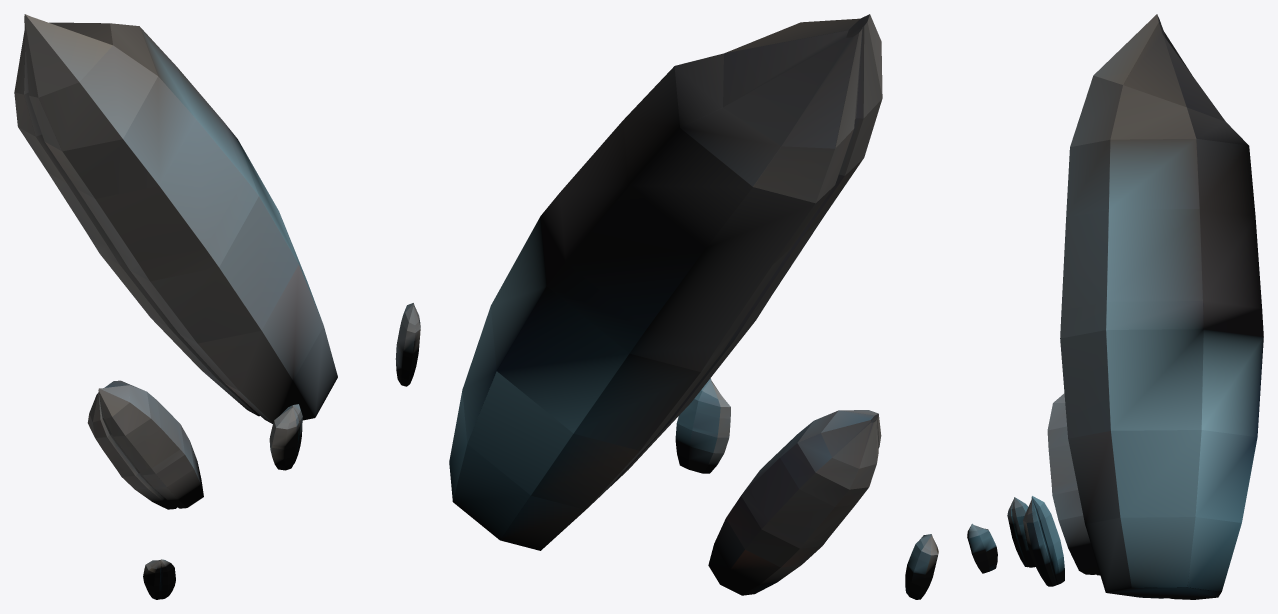
Rendered from res_crys_cluster_mid_a_lod0.glb.
3 views of the same model, side by side, from view 1: azimuth 30°, elevation 25°; view 2: azimuth 150°, elevation 25°; view 3: azimuth 270°, elevation 25° (orthographic). The views are drawn at different scales.
Parts seen in each view (by area): view 1: STATIC_middle__ENV02 · violet resonant mineral.001, STATIC_middle__ENV02 · violet deep cleavage.001, STATIC_middle__ENV02 · cyan resonant mineral.001, STATIC_middle__ENV02 · cyan deep cleavage.001; view 2: STATIC_middle__ENV02 · violet resonant mineral.001, STATIC_middle__ENV02 · violet deep cleavage.001, STATIC_middle__ENV02 · cyan resonant mineral.001, STATIC_middle__ENV02 · cyan deep cleavage.001; view 3: STATIC_middle__ENV02 · violet resonant mineral.001, STATIC_middle__ENV02 · violet deep cleavage.001, STATIC_middle__ENV02 · cyan resonant mineral.001, STATIC_middle__ENV02 · cyan deep cleavage.001.
Boxes of the visible parts, box(x1,y1,x2,y2) form: STATIC_middle__ENV02 · violet resonant mineral.001: box(14, 14, 337, 599); STATIC_middle__ENV02 · violet deep cleavage.001: box(24, 14, 322, 599); STATIC_middle__ENV02 · cyan resonant mineral.001: box(90, 303, 420, 509); STATIC_middle__ENV02 · cyan deep cleavage.001: box(87, 304, 420, 507); STATIC_middle__ENV02 · violet resonant mineral.001: box(449, 14, 937, 599); STATIC_middle__ENV02 · violet deep cleavage.001: box(500, 14, 938, 596); STATIC_middle__ENV02 · cyan resonant mineral.001: box(675, 378, 881, 595); STATIC_middle__ENV02 · cyan deep cleavage.001: box(688, 379, 880, 595); STATIC_middle__ENV02 · violet resonant mineral.001: box(968, 14, 1263, 599); STATIC_middle__ENV02 · violet deep cleavage.001: box(967, 22, 1203, 587); STATIC_middle__ENV02 · cyan resonant mineral.001: box(1007, 393, 1100, 586); STATIC_middle__ENV02 · cyan deep cleavage.001: box(1007, 496, 1064, 586).
Size of the model in its own units: 1.03 by 1.57 by 0.7917.
